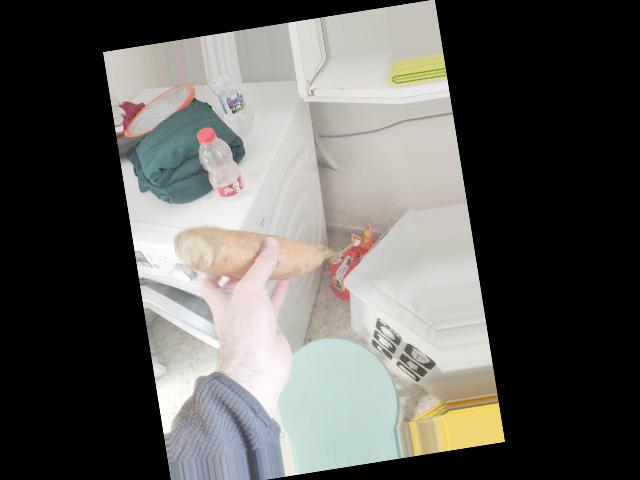sweet_potato: (174, 215, 339, 285)
